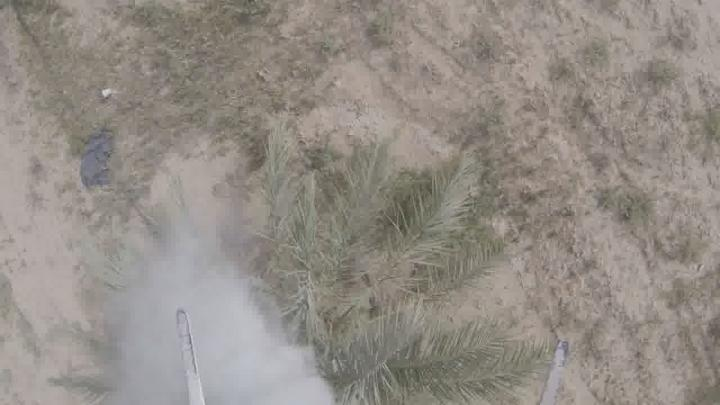Date-Palm-Crown: (137, 209, 441, 405)
